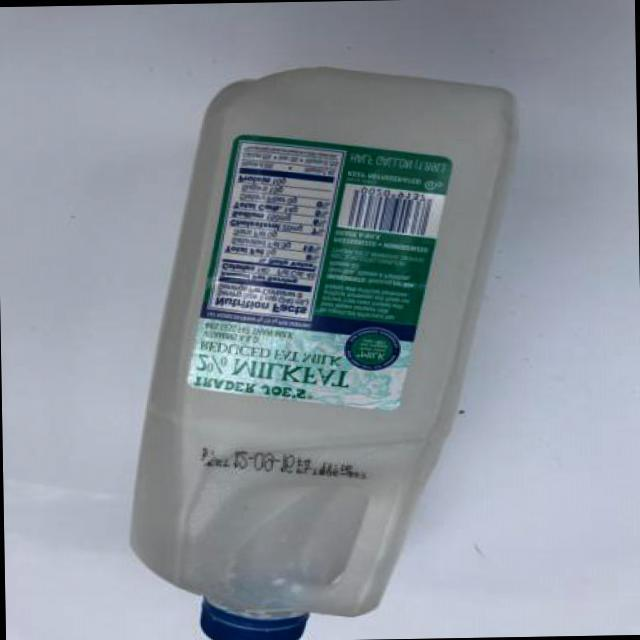HDPE Plastic: (122, 64, 522, 637)
